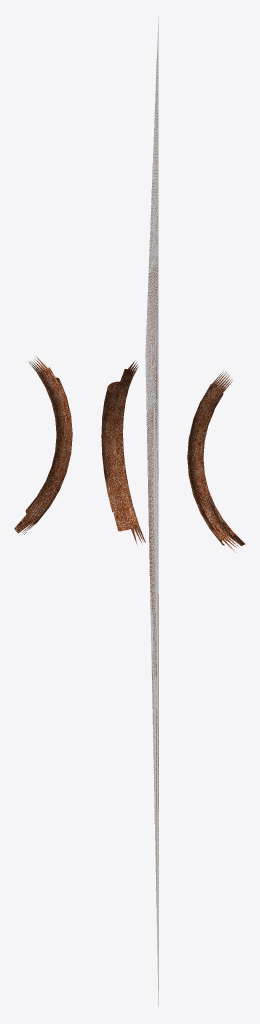
The picture shows the model from 3 angles, left to right: view 1: azimuth 90°, elevation 25°; view 2: azimuth 210°, elevation 25°; view 3: azimuth 270°, elevation 25°; orthographic projection.
Size of the model in its own units: 0.0475 by 1.36 by 0.0722.
